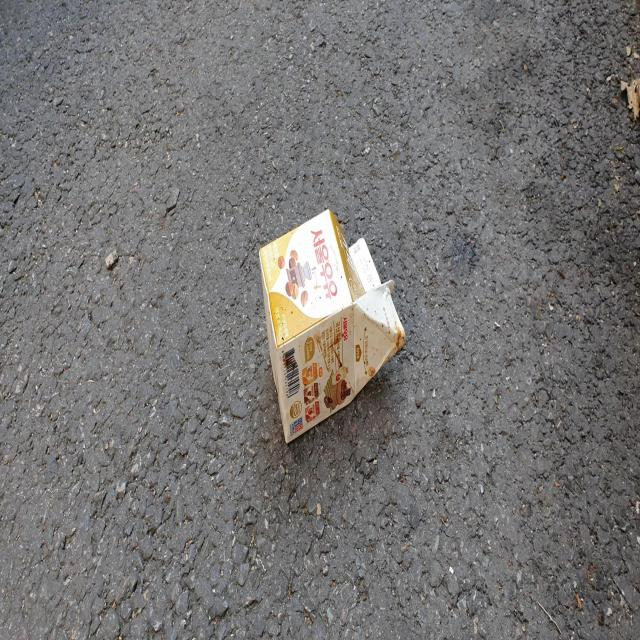paperpack: (260, 208, 406, 442)
